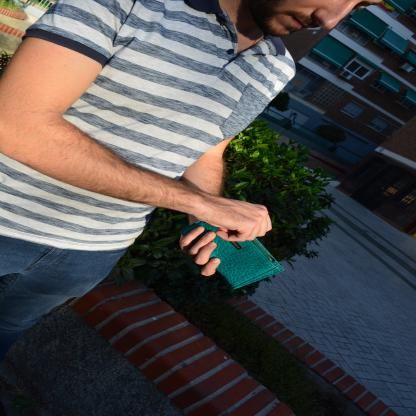monedero: (179, 220, 285, 289)
